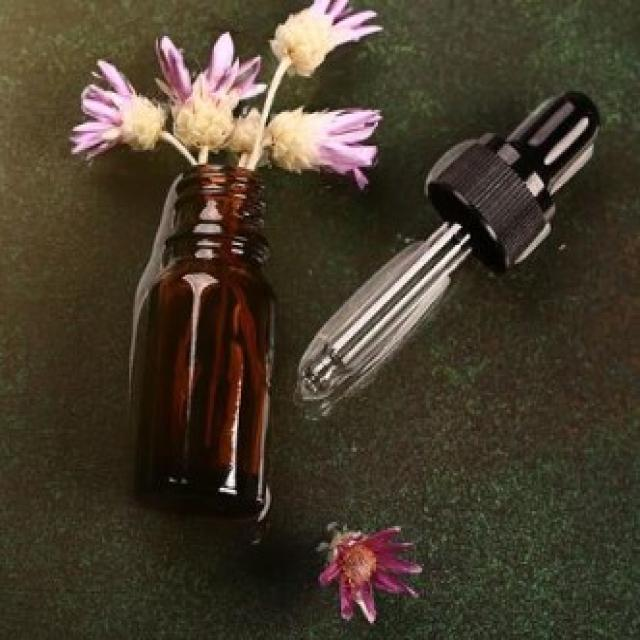electronic: (124, 81, 599, 526)
